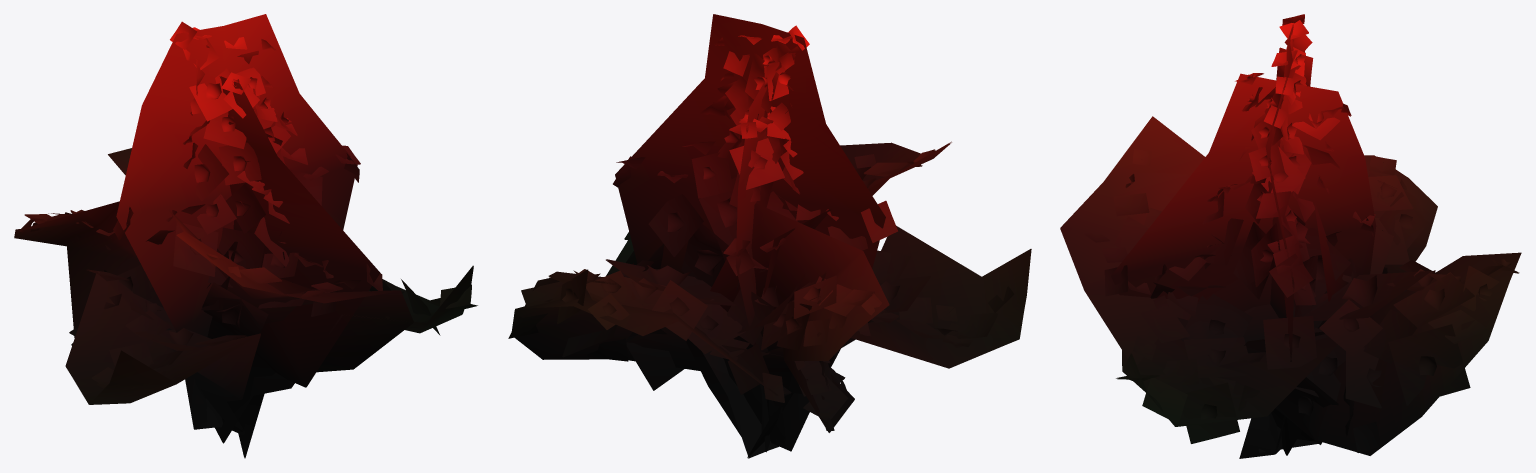
File: Bush03_AFS_high.FBX
The picture shows the model from 3 angles, left to right: view 1: azimuth 30°, elevation 25°; view 2: azimuth 150°, elevation 25°; view 3: azimuth 270°, elevation 25°; orthographic projection. The views are drawn at different scales.
Parts seen in each view (by area): view 1: Bush03_AFS_high; view 2: Bush03_AFS_high; view 3: Bush03_AFS_high.
Part boxes in pixels (x1,y1,x2,y2): Bush03_AFS_high: (14,14,477,458); Bush03_AFS_high: (508,14,1031,458); Bush03_AFS_high: (1060,14,1521,458).
Size of the model in its own units: 0.9516 by 1.02 by 0.9984.
